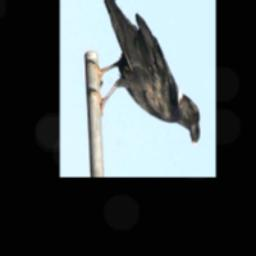Crow: (84, 0, 202, 150)
